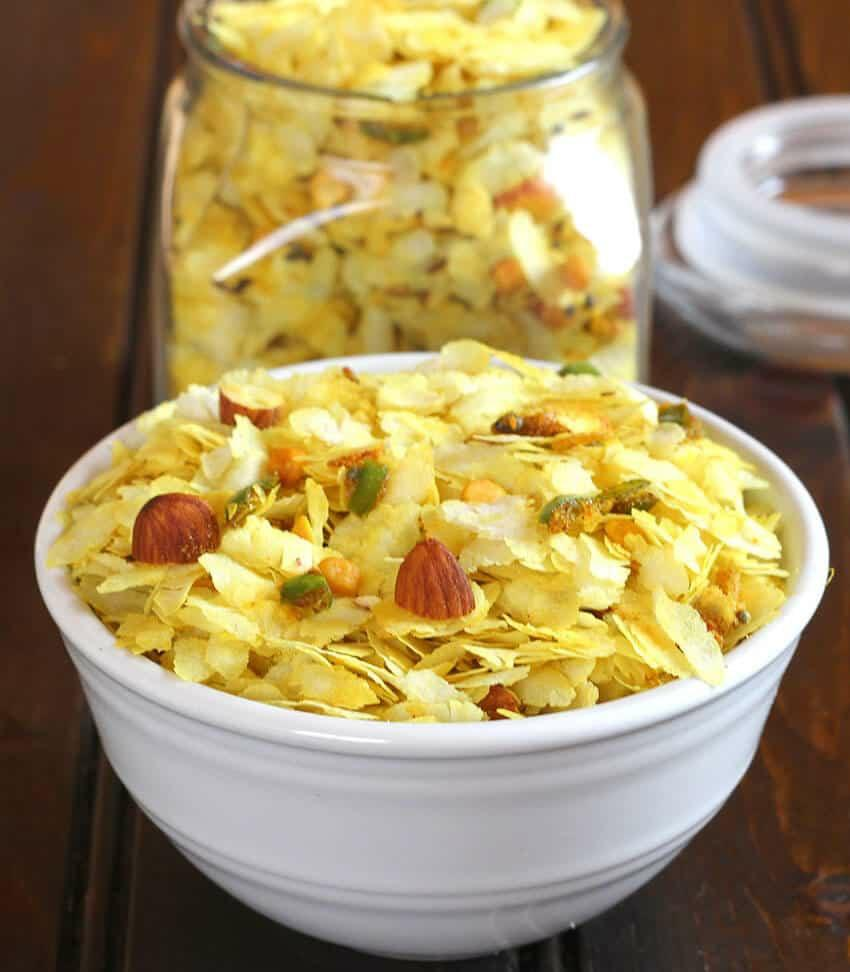Poha: (57, 332, 779, 720)
